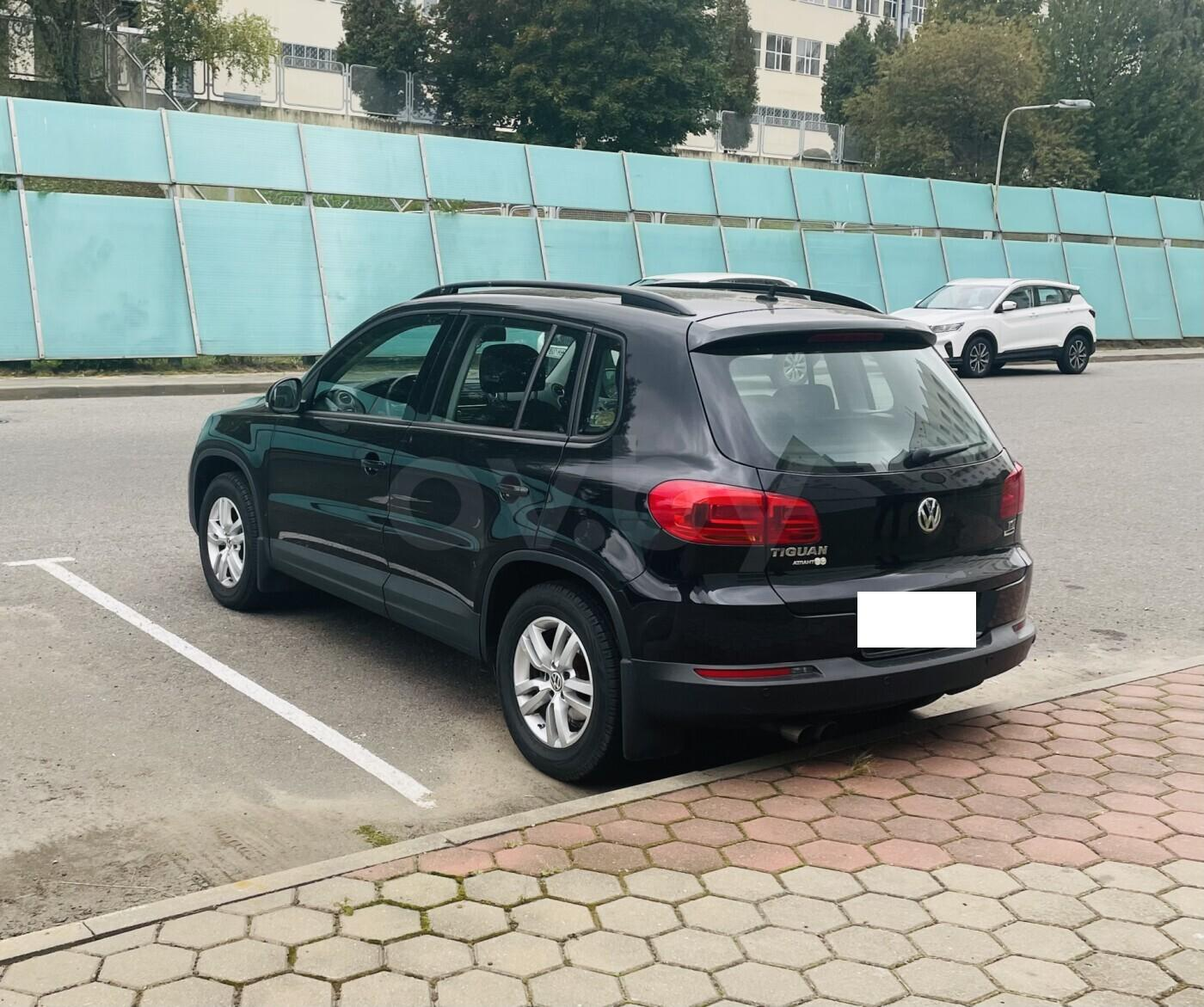Tiguan_2011-2018: (191, 278, 1029, 794)
